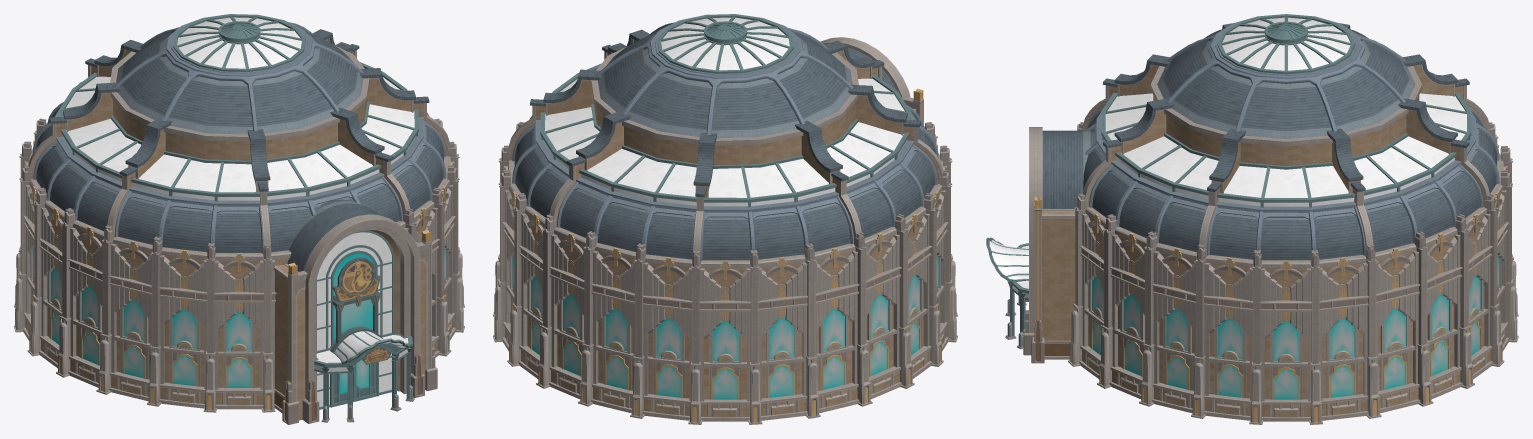
File: Homeworld_Exterior_Fd_Build_Baoshe_01_Lod0.fbx
The picture shows the model from 3 angles, left to right: view 1: azimuth 30°, elevation 25°; view 2: azimuth 150°, elevation 25°; view 3: azimuth 270°, elevation 25°; orthographic projection. The views are drawn at different scales.
Visible parts, largest first — view 1: Homeworld_Exterior_Fd_Build_Baoshe_01A_Lod0; view 2: Homeworld_Exterior_Fd_Build_Baoshe_01A_Lod0; view 3: Homeworld_Exterior_Fd_Build_Baoshe_01A_Lod0.
Part boxes in pixels (<box>): Homeworld_Exterior_Fd_Build_Baoshe_01A_Lod0: <box>14,14,464,424</box>; Homeworld_Exterior_Fd_Build_Baoshe_01A_Lod0: <box>493,14,957,424</box>; Homeworld_Exterior_Fd_Build_Baoshe_01A_Lod0: <box>986,14,1518,424</box>.
Size of what is drawn, in the model's own units: 30.28 by 21.52 by 34.7.
